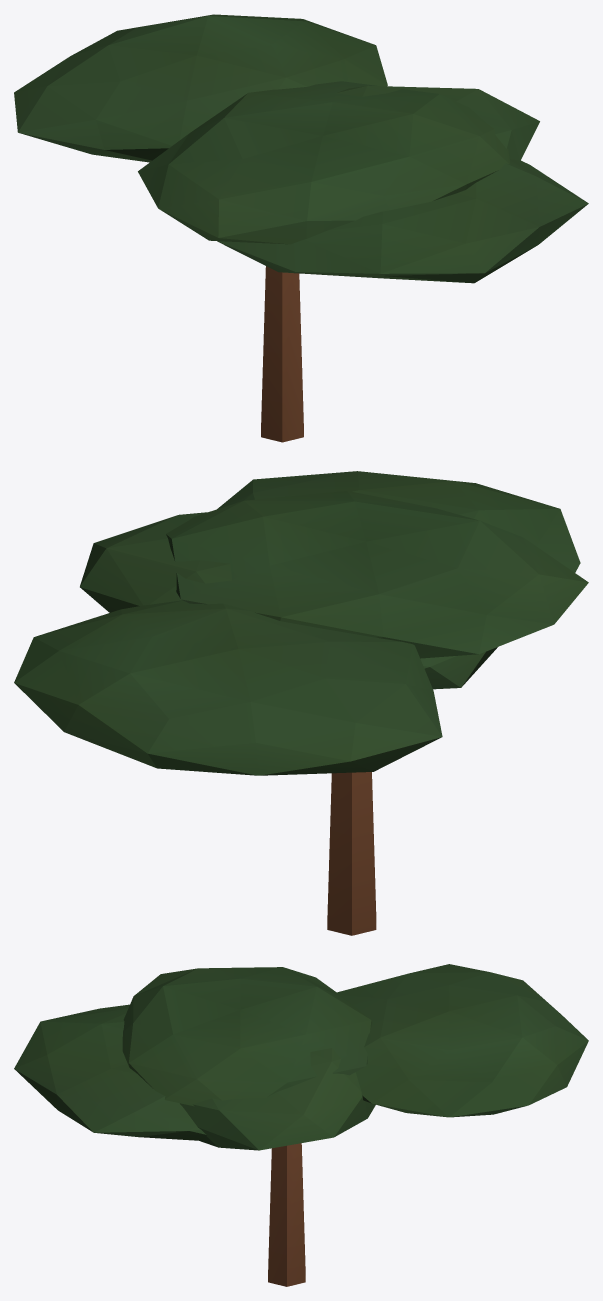
Rendered from veg_tall_1.glb.
3 renders of one model, top to bottom at view 1: azimuth 30°, elevation 25°; view 2: azimuth 150°, elevation 25°; view 3: azimuth 270°, elevation 25°, orthographic. The views are drawn at different scales.
Parts seen in each view (by area): view 1: geometry_0; view 2: geometry_0; view 3: geometry_0.
Boxes of the visible parts, x1,y1,x2,y2 form: geometry_0: (14,14,588,442); geometry_0: (14,471,588,935); geometry_0: (14,964,588,1286).
Size of the model in its own units: 1.39 by 1 by 1.9.
